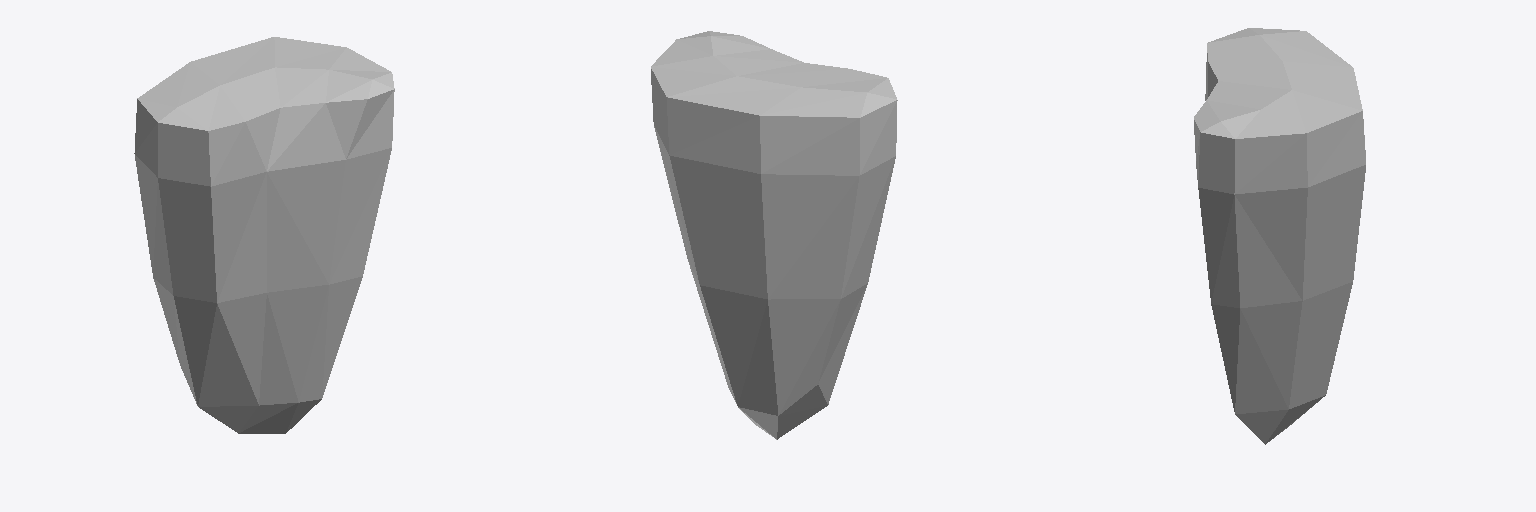
The model's file is step_stone_08.obj.
The picture shows the model from 3 angles: view 1: azimuth 30°, elevation 25°; view 2: azimuth 150°, elevation 25°; view 3: azimuth 270°, elevation 25°; orthographic projection.
Visible parts, largest first — view 1: step_stone_08; view 2: step_stone_08; view 3: step_stone_08.
Boxes of the visible parts, x1,y1,x2,y2 form: step_stone_08: [134, 37, 394, 433]; step_stone_08: [651, 31, 897, 439]; step_stone_08: [1194, 28, 1365, 444].
Size of the model in its own units: 210 by 314 by 138.